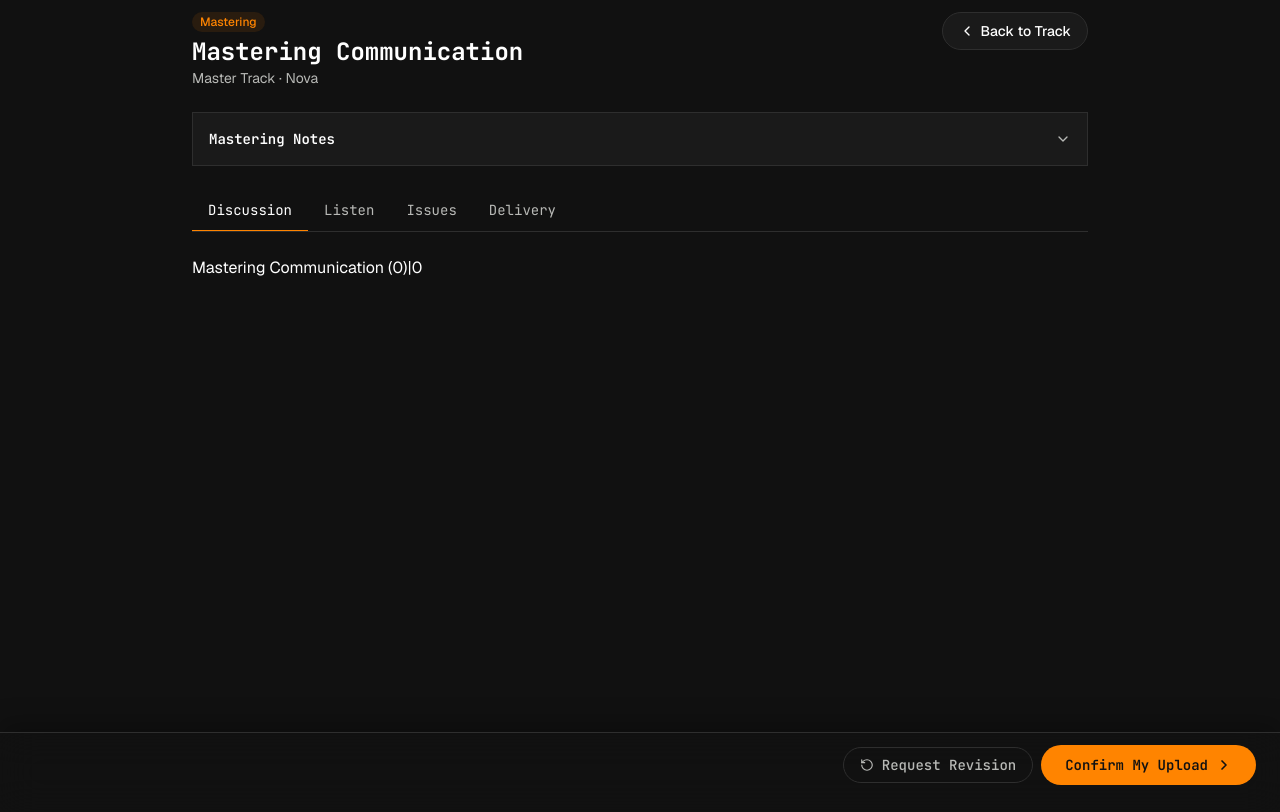
Test: MasteringView › allows a submitter-assigned delivery step to confirm and upload from the mastering page
Click the button "Delivery" at (522, 211), box top-left (473, 190), bottom-right (572, 232)
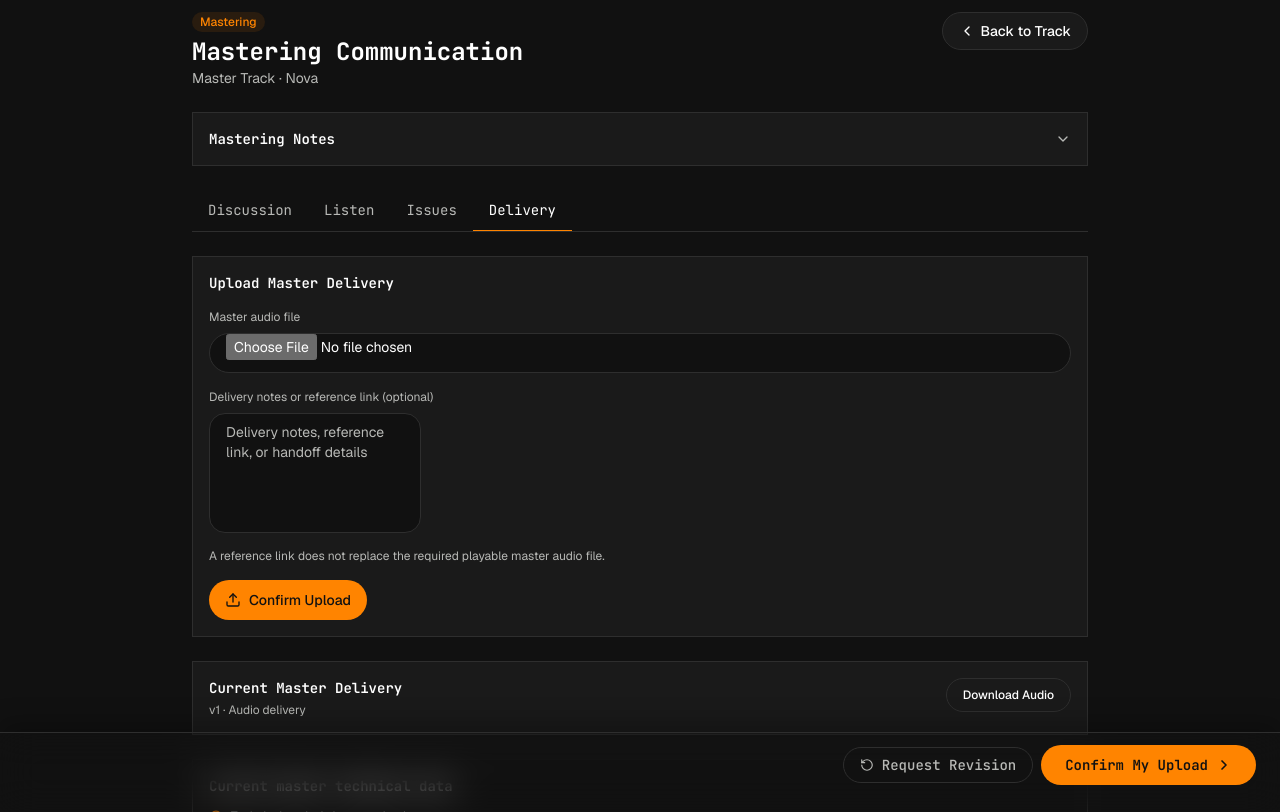
Expected: the text "Confirm My Upload" is shown, top-left (1065, 755), bottom-right (1208, 775)
Now the text "Upload Master Delivery" is shown, box top-left (209, 274), bottom-right (394, 292)
